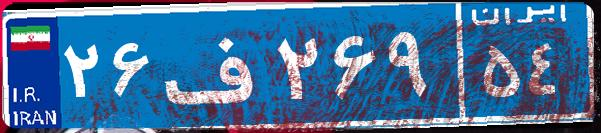2: (273, 28, 330, 110), (57, 26, 110, 107)
4: (525, 38, 570, 115)
5: (475, 38, 525, 113)
6: (330, 28, 385, 110), (110, 28, 158, 105)
9: (385, 28, 445, 110)
ف: (158, 15, 273, 115)
